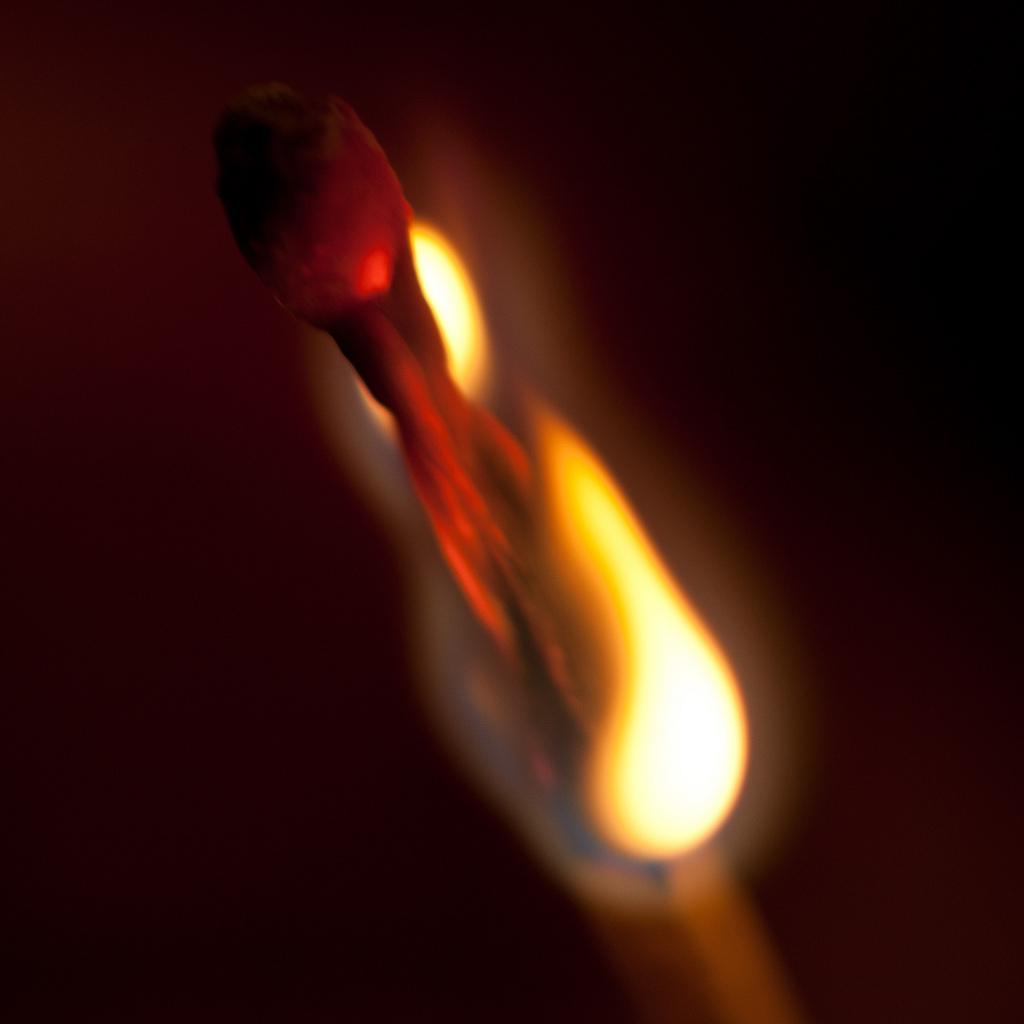fire: (580, 495, 750, 848)
